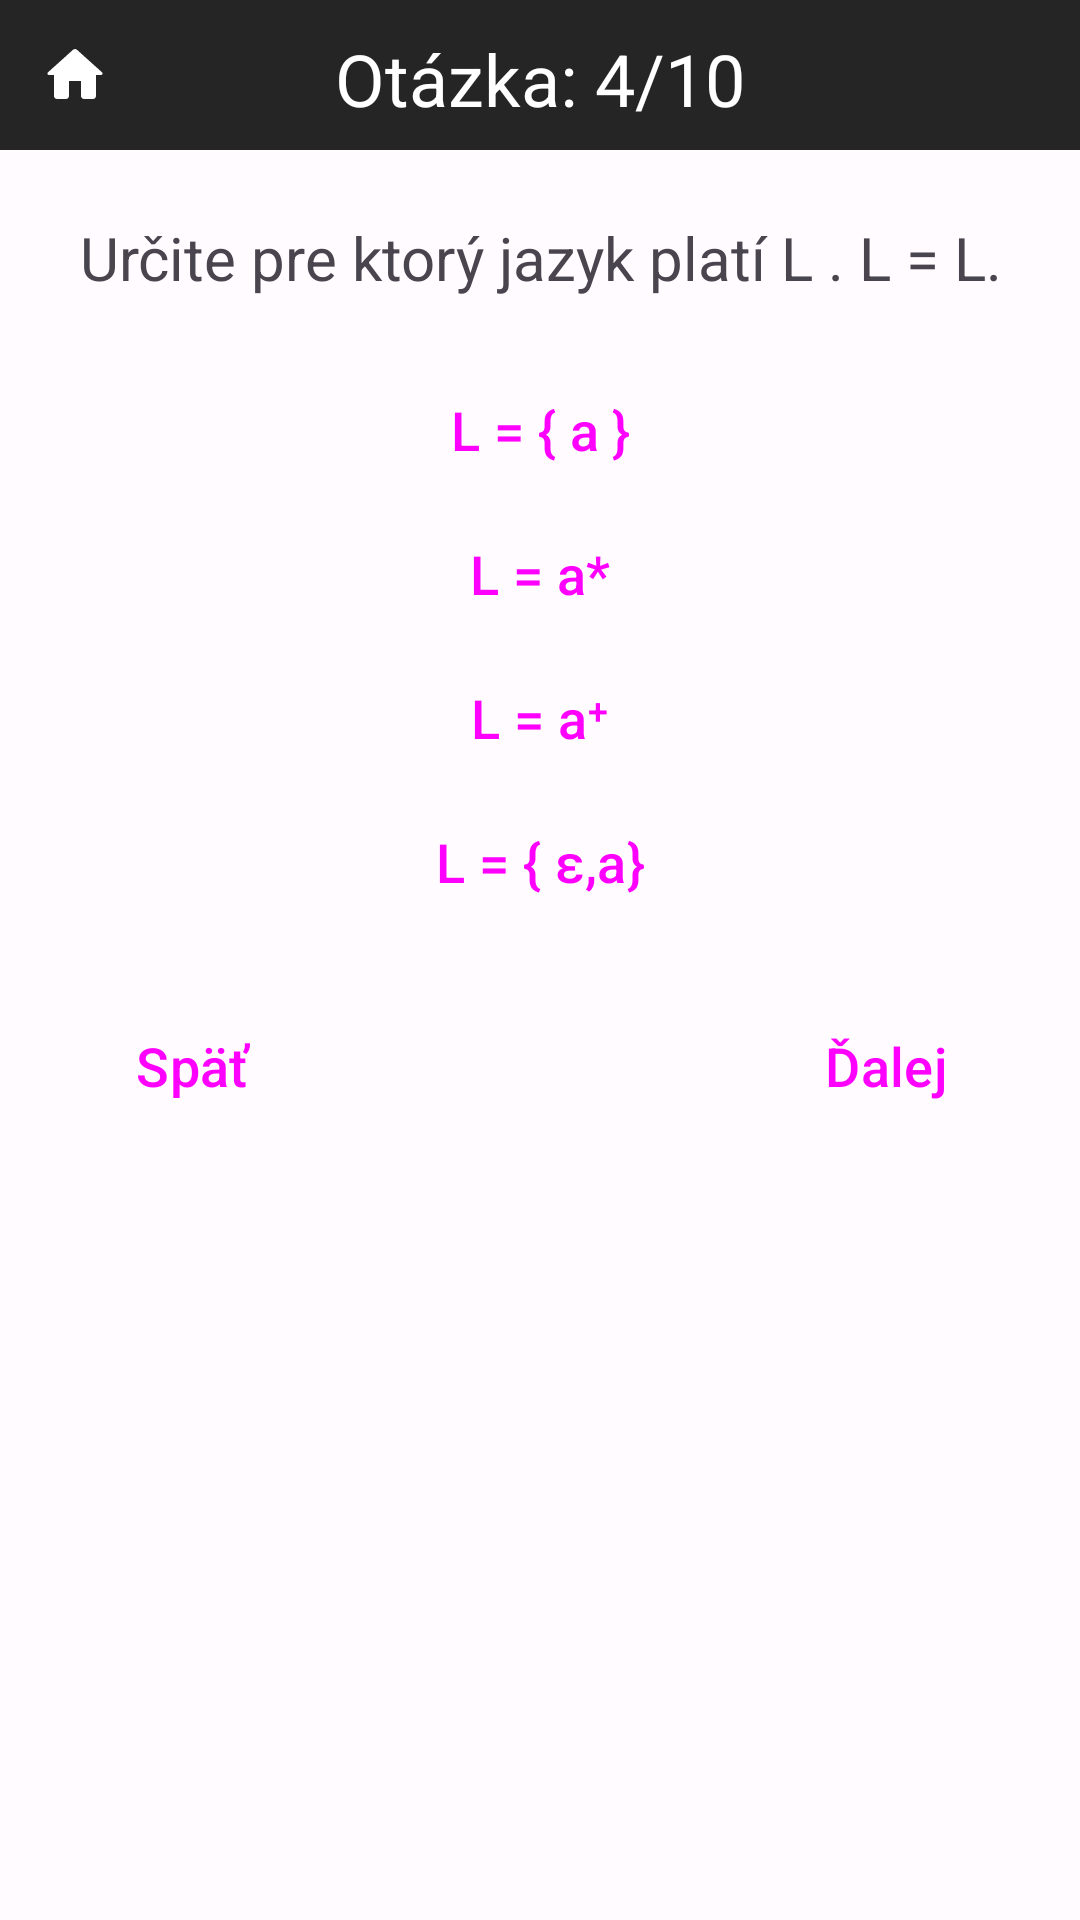

Locate icon controls on the screen. Image size 1080 x 1920, boxes as (x1, y1, x2, y2).
domov: (47, 49, 103, 99)
